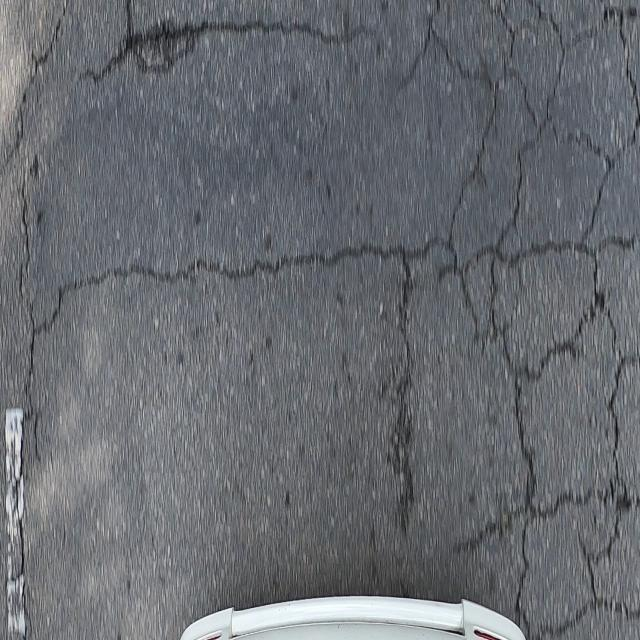Retak-Buaya: (430, 0, 640, 640)
Retak-Melintang: (38, 238, 450, 332), (82, 20, 366, 80)
Retak-Memanjang: (14, 178, 35, 640), (9, 0, 66, 161)
